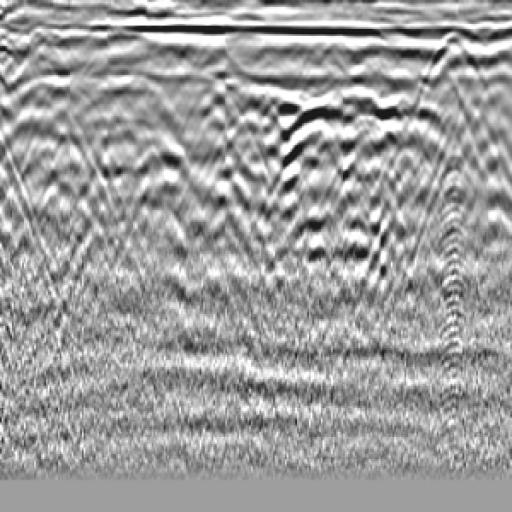metalic: (57, 64, 194, 162)
